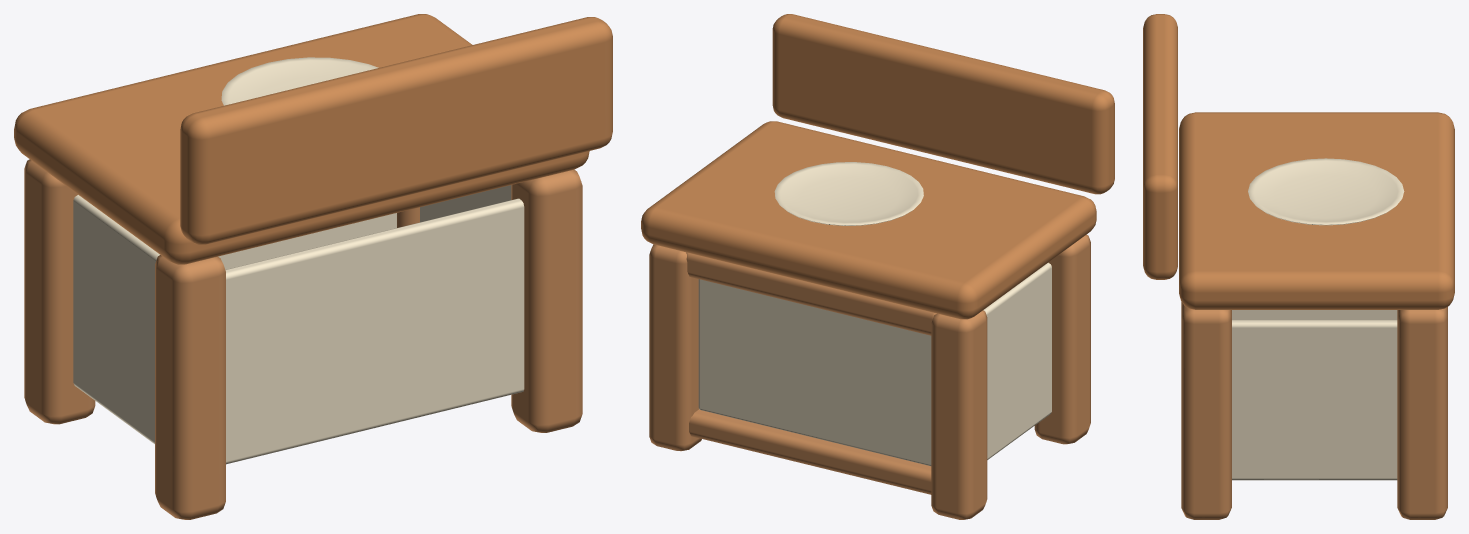
Rendered from PROP_PREP_COUNTER.glb.
3 views of the same model, side by side, from view 1: azimuth 30°, elevation 25°; view 2: azimuth 150°, elevation 25°; view 3: azimuth 270°, elevation 25° (orthographic). The views are drawn at different scales.
Visible parts, largest first — view 1: panels, upstand, legs, top, plate; view 2: top, legs, panels, upstand, plate; view 3: top, panels, legs, upstand, plate.
Boxes of the visible parts, bbox=[...] form: panels: bbox=[73, 185, 524, 464]; upstand: bbox=[180, 17, 612, 244]; legs: bbox=[24, 159, 582, 519]; top: bbox=[14, 14, 589, 264]; plate: bbox=[221, 57, 378, 105]; top: bbox=[641, 121, 1096, 319]; legs: bbox=[649, 234, 1090, 519]; panels: bbox=[698, 262, 1051, 466]; upstand: bbox=[772, 14, 1114, 194]; plate: bbox=[774, 162, 923, 225]; top: bbox=[1179, 112, 1454, 309]; panels: bbox=[1232, 310, 1397, 480]; legs: bbox=[1181, 301, 1447, 519]; upstand: bbox=[1143, 14, 1177, 279]; plate: bbox=[1248, 158, 1404, 225].
Bounding box in the file's own units: 4.4 × 4.17 × 3.39.
